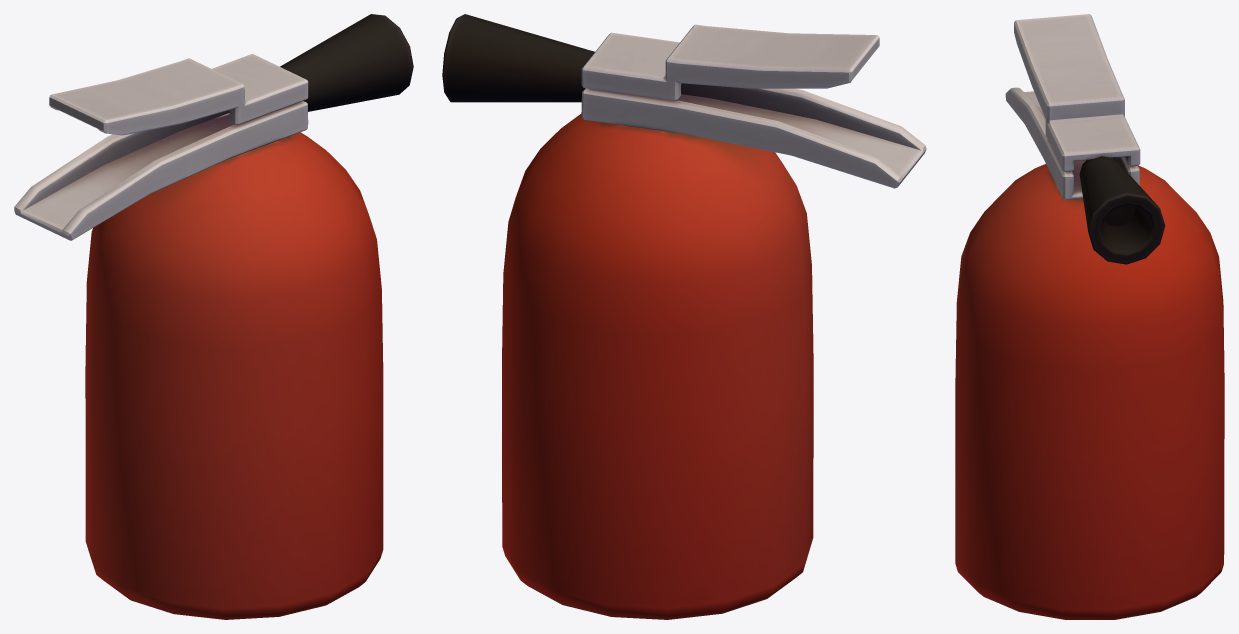
File: extinguisher.fbx
The picture shows the model from 3 angles, left to right: view 1: azimuth 30°, elevation 25°; view 2: azimuth 150°, elevation 25°; view 3: azimuth 270°, elevation 25°; orthographic projection. The views are drawn at different scales.
Parts seen in each view (by area): view 1: Fire_Exting; view 2: Fire_Exting; view 3: Fire_Exting.
Part boxes in pixels (box(x1,y1,x2,y2)): Fire_Exting: box(14, 14, 413, 619); Fire_Exting: box(442, 14, 926, 619); Fire_Exting: box(955, 14, 1224, 619).
Size of the model in its own units: 123 by 150 by 77.17.
Materials: 1 (1 with a texture image).
